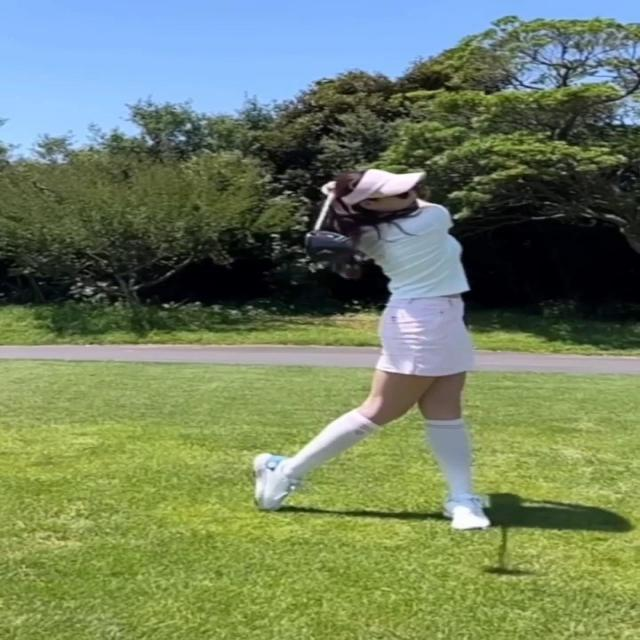ClubHandle: (305, 190, 354, 264)
ClubHead: (305, 231, 354, 264)
